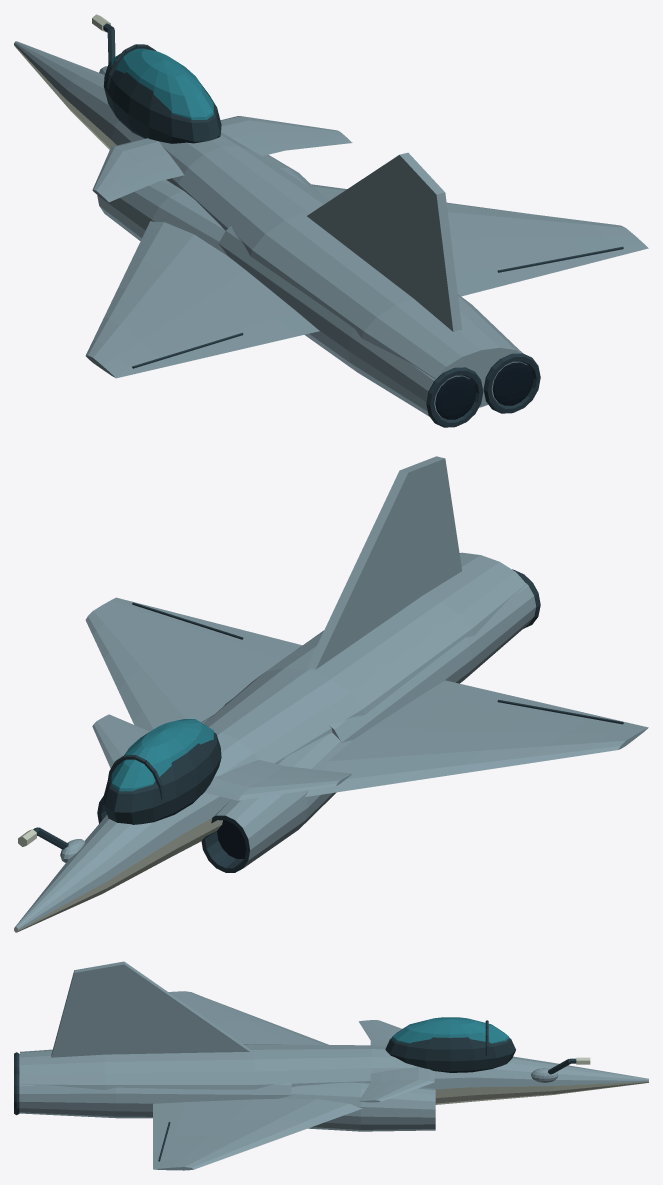
The model's file is archive-rafale-c.glb.
3 views of the same model, one above another, from view 1: azimuth 30°, elevation 25°; view 2: azimuth 150°, elevation 25°; view 3: azimuth 270°, elevation 25° (orthographic). The views are drawn at different scales.
Visible parts, largest first — view 1: archive-rafale-c-fuselage.010-geometry, archive-rafale-c-archive-rafale-c-geometry, archive-rafale-c-wing_0_-1.010-geometry, archive-rafale-c-vertical_tail.010-geometry, archive-rafale-c-wing_0_1.010-geometry, archive-rafale-c-intake_0.002-geometry, archive-rafale-c-canard-geometry, archive-rafale-c-canard.001-geometry; view 2: archive-rafale-c-fuselage.010-geometry, archive-rafale-c-wing_0_-1.010-geometry, archive-rafale-c-wing_0_1.010-geometry, archive-rafale-c-archive-rafale-c-geometry, archive-rafale-c-vertical_tail.010-geometry, archive-rafale-c-intake_0.002-geometry, archive-rafale-c-canard-geometry, archive-rafale-c-canard.001-geometry, archive-rafale-c-refueling_probe-geometry; view 3: archive-rafale-c-fuselage.010-geometry, archive-rafale-c-archive-rafale-c-geometry, archive-rafale-c-vertical_tail.010-geometry, archive-rafale-c-wing_0_1.010-geometry, archive-rafale-c-intake_1.001-geometry, archive-rafale-c-wing_0_-1.010-geometry, archive-rafale-c-canard.001-geometry, archive-rafale-c-canard-geometry, archive-rafale-c-refueling_probe-geometry.
Part boxes in pixels (x1,y1,x2,y2): archive-rafale-c-fuselage.010-geometry: (14,41,522,407); archive-rafale-c-archive-rafale-c-geometry: (103,44,540,427); archive-rafale-c-wing_0_-1.010-geometry: (85,221,319,378); archive-rafale-c-vertical_tail.010-geometry: (307,152,462,331); archive-rafale-c-wing_0_1.010-geometry: (311,184,648,296); archive-rafale-c-intake_0.002-geometry: (97,180,227,255); archive-rafale-c-canard-geometry: (92,138,184,202); archive-rafale-c-canard.001-geometry: (220,116,352,156); archive-rafale-c-fuselage.010-geometry: (14,552,526,932); archive-rafale-c-wing_0_-1.010-geometry: (305,680,648,796); archive-rafale-c-wing_0_1.010-geometry: (85,597,302,731); archive-rafale-c-archive-rafale-c-geometry: (103,569,540,824); archive-rafale-c-vertical_tail.010-geometry: (307,456,462,669); archive-rafale-c-intake_0.002-geometry: (201,733,352,872); archive-rafale-c-canard-geometry: (204,760,352,800); archive-rafale-c-canard.001-geometry: (92,714,149,768); archive-rafale-c-refueling_probe-geometry: (18,827,85,862); archive-rafale-c-fuselage.010-geometry: (20,1043,648,1104); archive-rafale-c-archive-rafale-c-geometry: (14,1017,515,1118); archive-rafale-c-vertical_tail.010-geometry: (51,961,249,1057); archive-rafale-c-wing_0_1.010-geometry: (153,1098,362,1170); archive-rafale-c-intake_1.001-geometry: (280,1082,435,1131); archive-rafale-c-wing_0_-1.010-geometry: (168,991,328,1044); archive-rafale-c-canard.001-geometry: (358,1067,434,1102); archive-rafale-c-canard-geometry: (358,1020,401,1045); archive-rafale-c-refueling_probe-geometry: (531,1057,590,1082).
Size of the model in its own units: 3.9 by 1.56 by 5.96.
